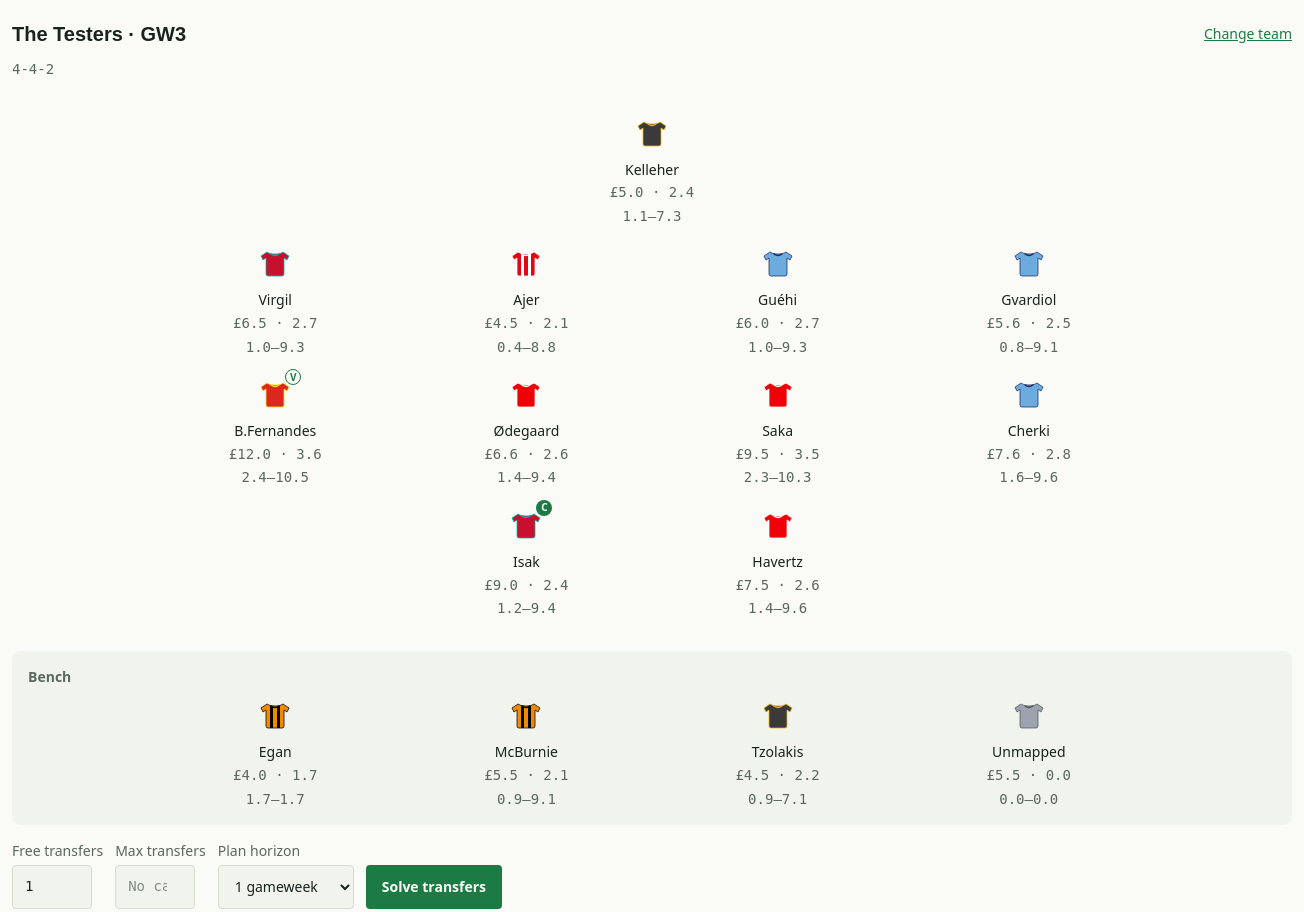
SquadTab solve flow (03-04 Task 2) › renders the solved squad in place after a successful solve
Expected: the heading "The Testers · GW3" is shown, [12,22,186,46]
Click the button "Solve transfers". click: (434, 887)
box: [366,865,502,909]
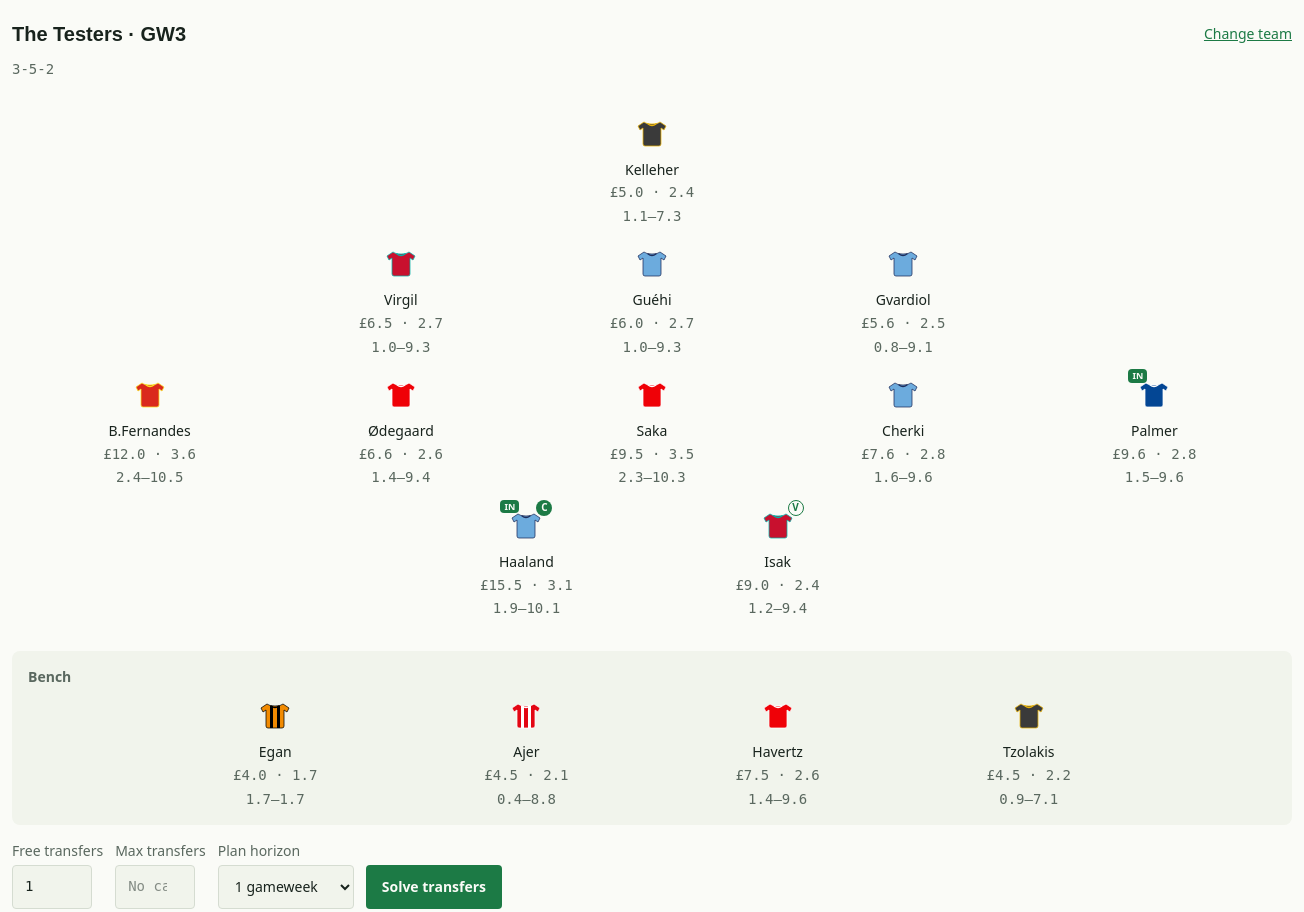
Now the text "Haaland" is shown, box [499,552,554,571]
Now the text "Palmer" is shown, box [1131,421,1178,440]
